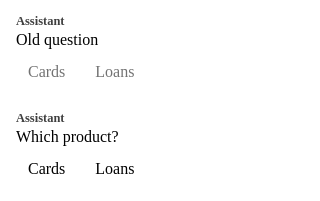
Test: composable parts › ChoiceButtons: sends the tapped option once; older questions are disabled in the log
expect the button "Cards" below "Old question" is disabled: met, box [16,57,77,87]
Step 1. Click the button "Loans" below "Which product?" → [115, 169], box [83,154,146,184]
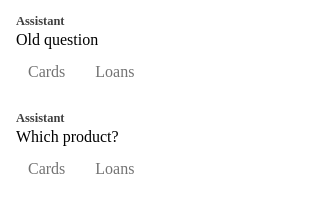
expect the button "Loans" below "Which product?" is disabled: met, box [83,154,146,184]
